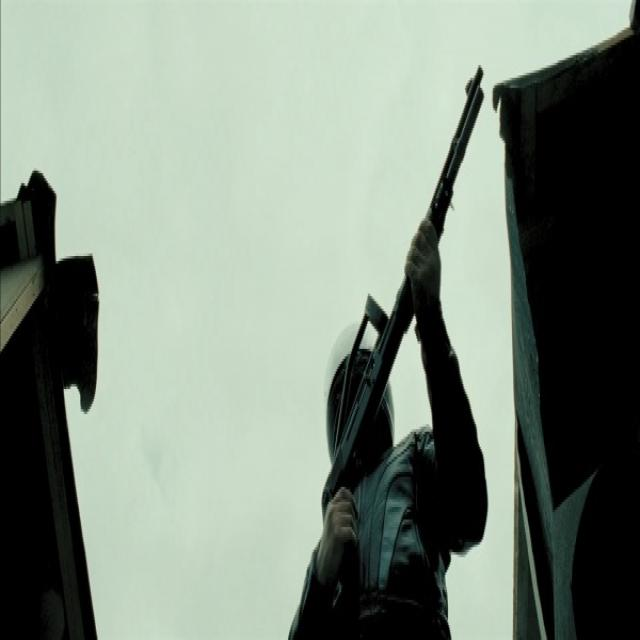rifle: (326, 55, 490, 622)
